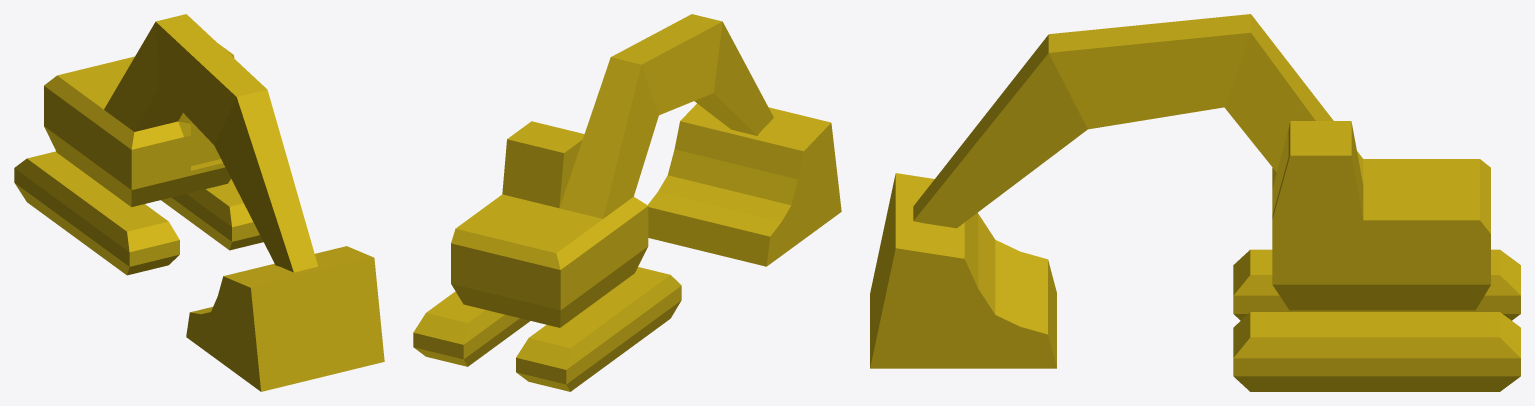
Rendered from JCB_exacator.fbx.
The picture shows the model from 3 angles, left to right: view 1: azimuth 30°, elevation 25°; view 2: azimuth 150°, elevation 25°; view 3: azimuth 270°, elevation 25°; orthographic projection. The views are drawn at different scales.
Parts seen in each view (by area): view 1: Cube; view 2: Cube; view 3: Cube.
Part boxes in pixels (x1,y1,x2,y2): Cube: (14,14,384,391); Cube: (413,14,841,391); Cube: (870,14,1520,391).
Size of the model in its own units: 314 by 444 by 850.
